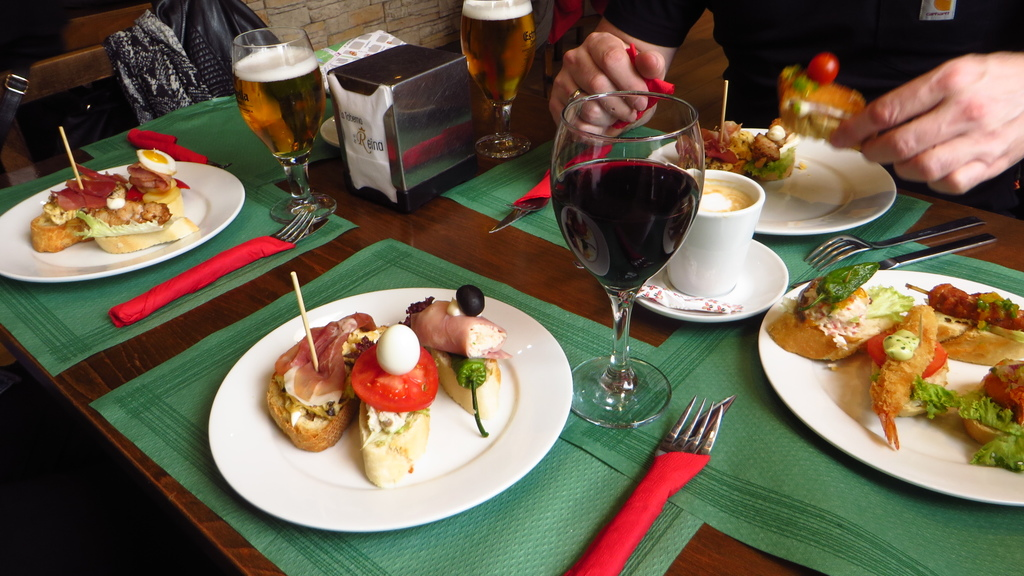Tomato: (347, 342, 445, 412)
